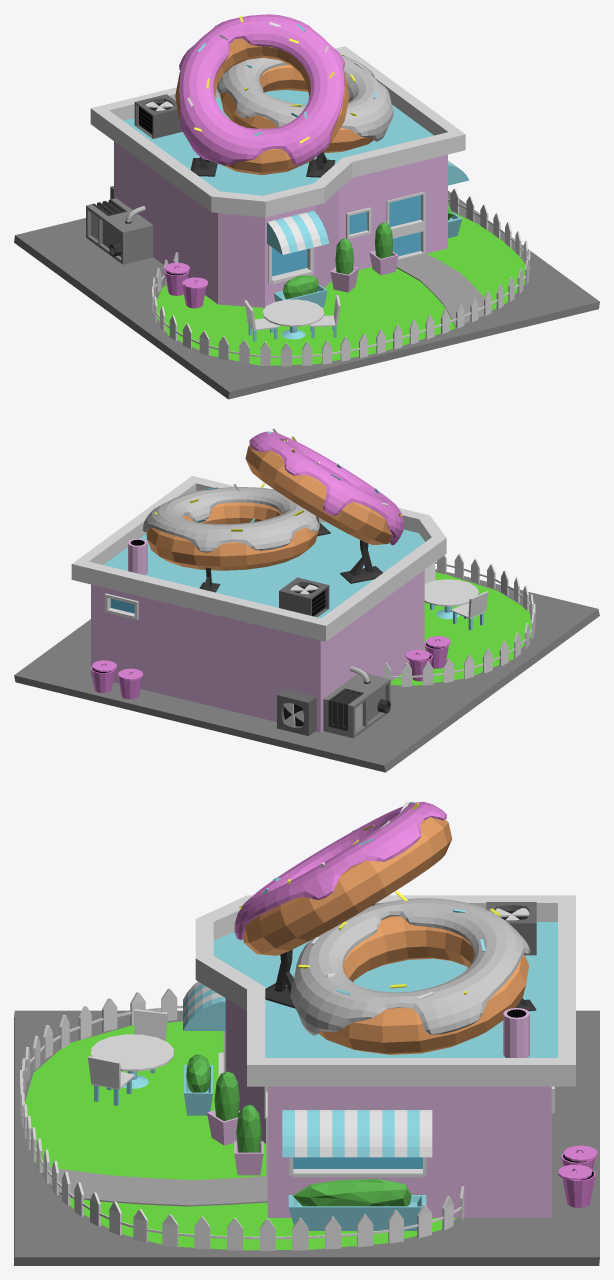
The model's file is donutStore.fbx.
The picture shows the model from 3 angles, top to bottom: view 1: azimuth 30°, elevation 25°; view 2: azimuth 150°, elevation 25°; view 3: azimuth 270°, elevation 25°; orthographic projection. The views are drawn at different scales.
Visible parts, largest first — view 1: DonutShopMerged; view 2: DonutShopMerged; view 3: DonutShopMerged.
Boxes of the visible parts, x1,y1,x2,y2 form: DonutShopMerged: (14,14,599,399); DonutShopMerged: (14,428,599,772); DonutShopMerged: (14,801,599,1265).
Size of the model in its own units: 700 by 426 by 700.
